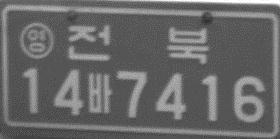1: (18, 65, 49, 114), (193, 74, 224, 122)
4: (154, 72, 186, 120), (52, 69, 84, 115)
6: (232, 74, 265, 123)
7: (116, 69, 148, 118)
바: (86, 71, 113, 114)
영: (18, 21, 55, 60)
전북_D: (66, 23, 209, 65)
